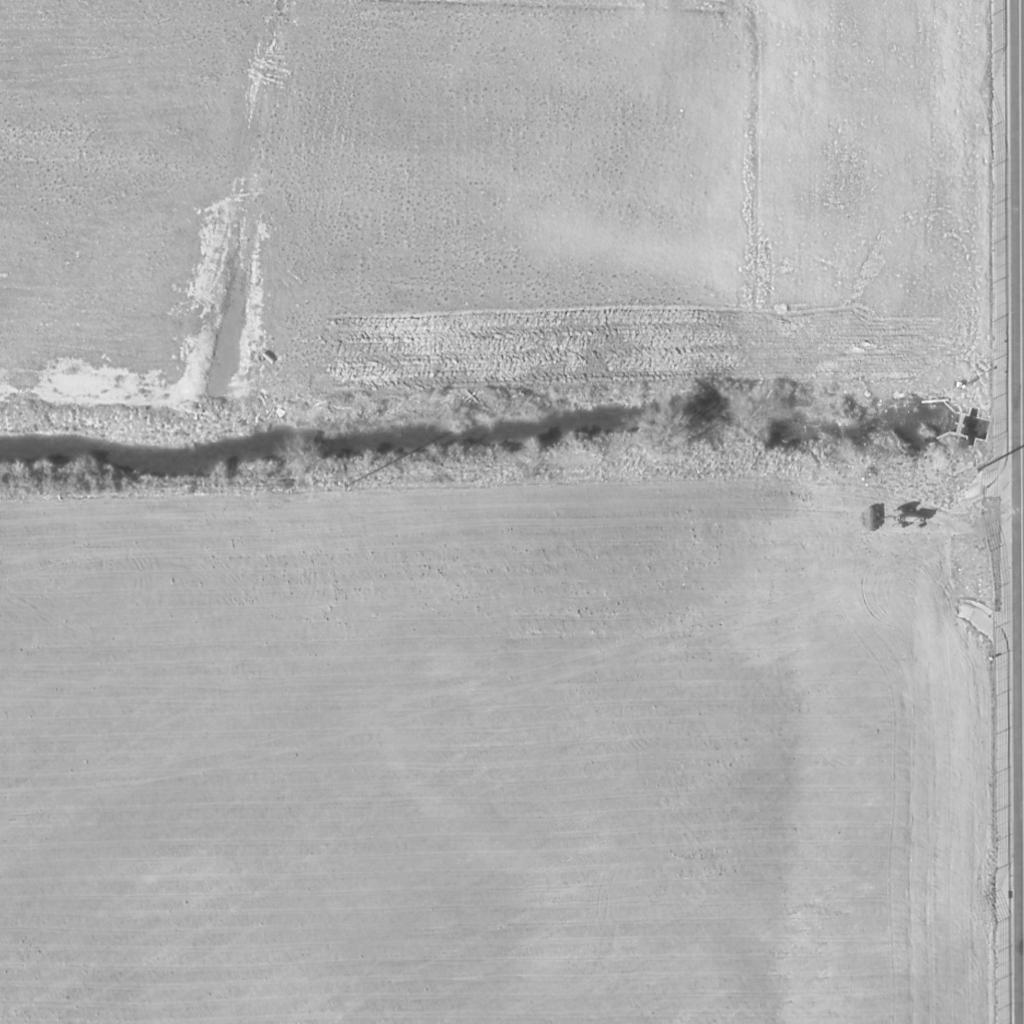vehicle: (893, 509, 929, 531)
